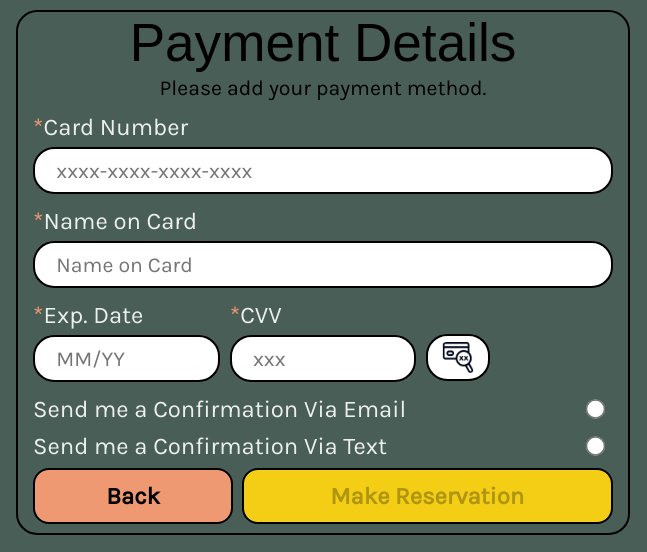
Test case: Payment Form › Test for input Interaction
Type "1234-5678-9012-3456" into the field labelled "*Card Number" at (323, 171), box [33,147,613,194]
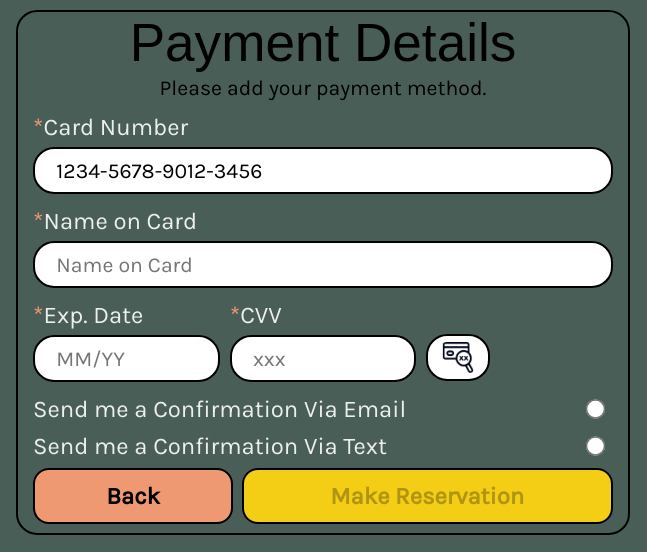
Type "John Doe" into the field labelled "*Name on Card" at (323, 265), box [33,241,613,288]
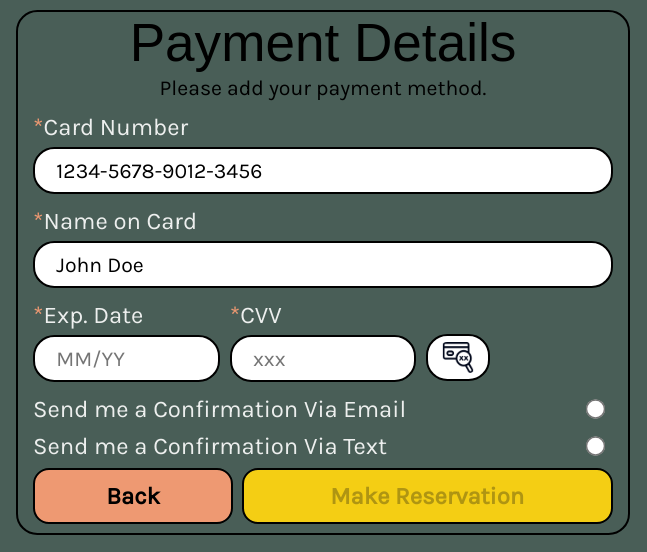
Type "12/30" into the field labelled "*Exp. Date" at (126, 359), box [33,335,220,382]
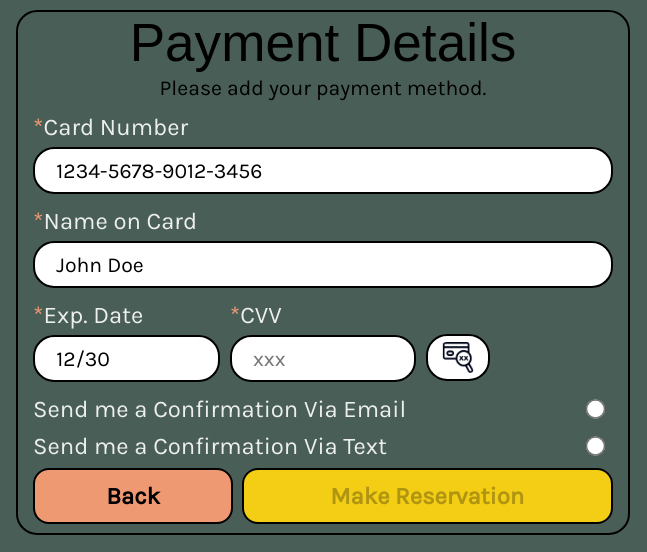
Type "123" into the field labelled "*CVV" at (323, 359), box [230,335,416,382]
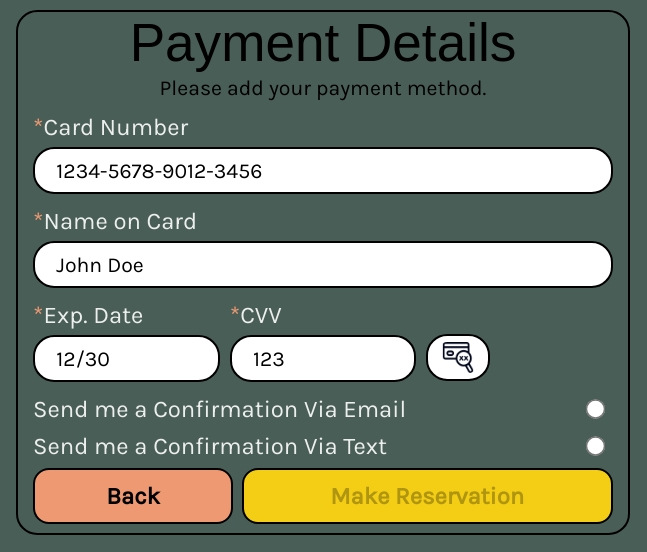
Click the radio button labelled "Send me a Confirmation Via Email" at (596, 409), box [586,388,606,430]
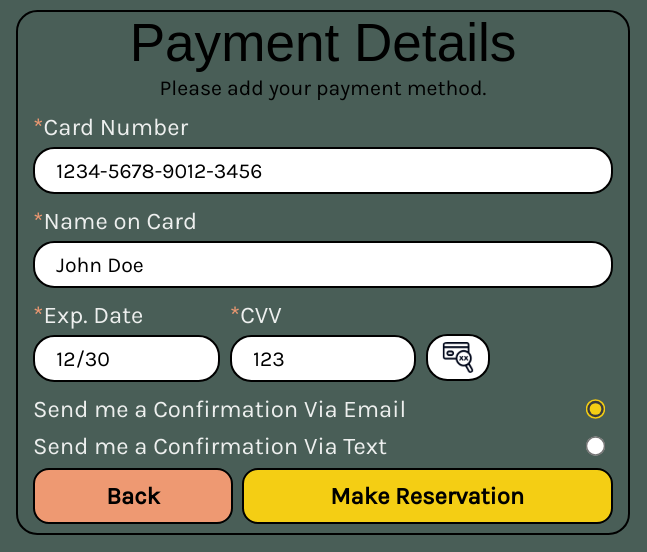
Expected: the radio button labelled "Send me a Confirmation Via Email" is checked, [586,388,606,430]
Expected: the button "Make Reservation" is enabled, [242,468,613,524]
